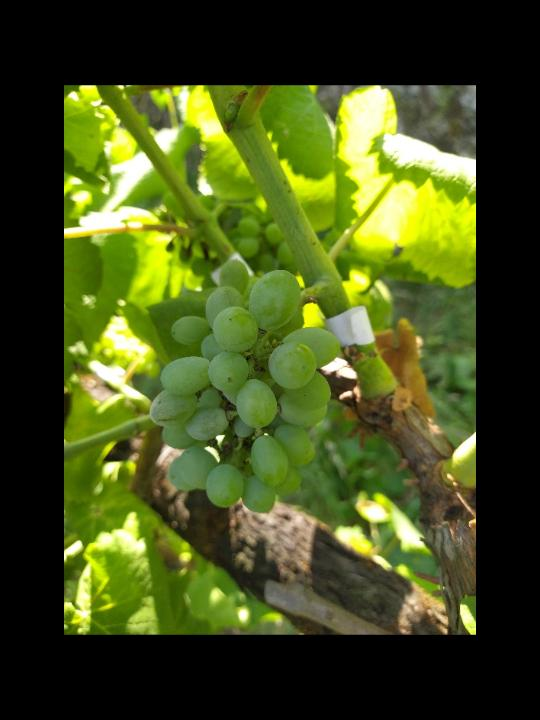grape: (147, 261, 345, 516)
